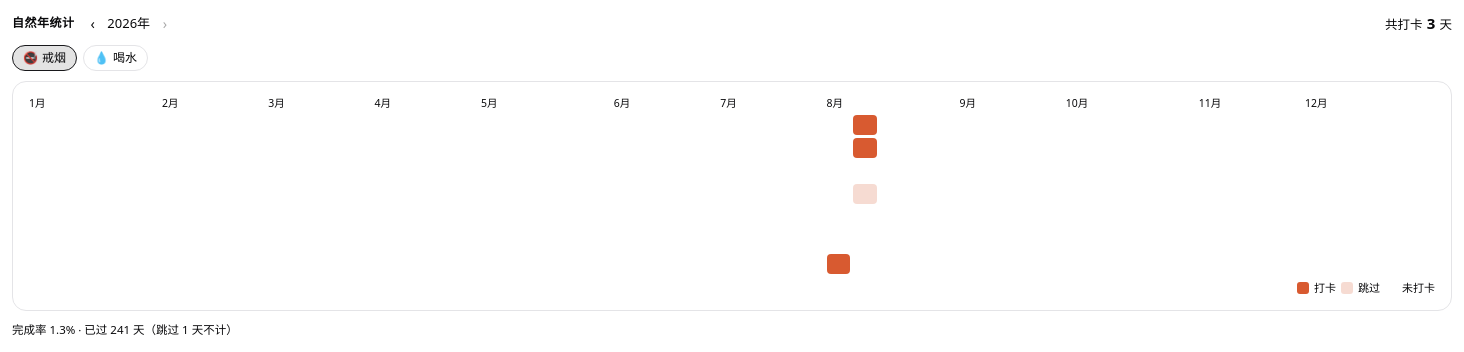
Test: NaturalYearStats › 点击 habitB chip 后计数切换为 1 天
The width and height of the screenshot is (1464, 352).
Step 1. Click the button "💧 喝水" → (116, 58), box 83,45 -> 148,71
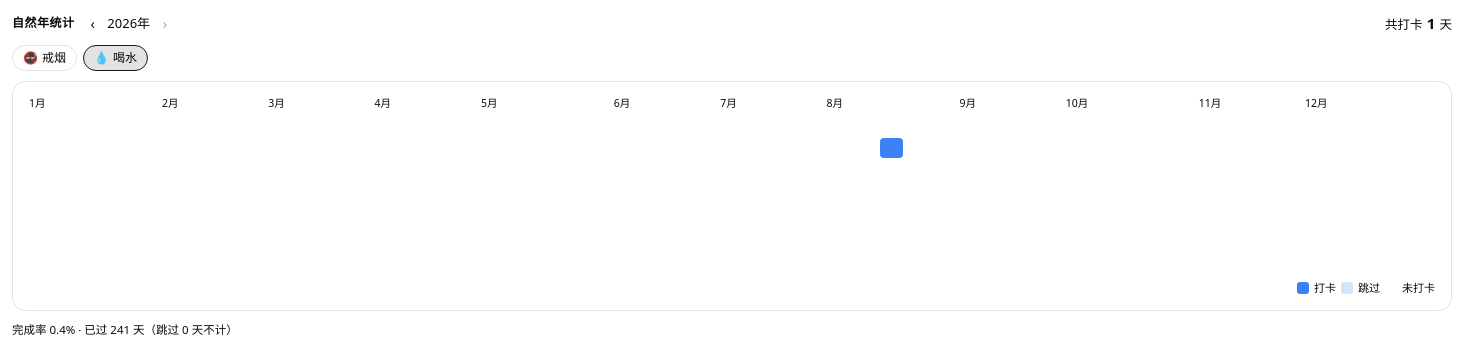
Expected: the text "共打卡 1 天" is shown, 1385,12 -> 1452,35
